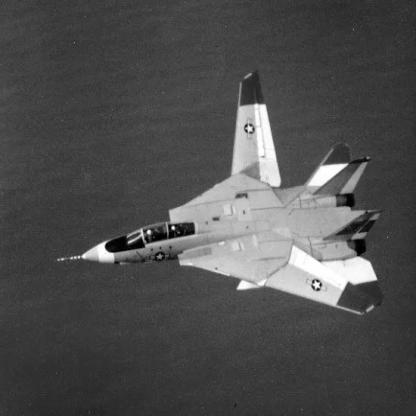F14: (56, 69, 386, 317)
